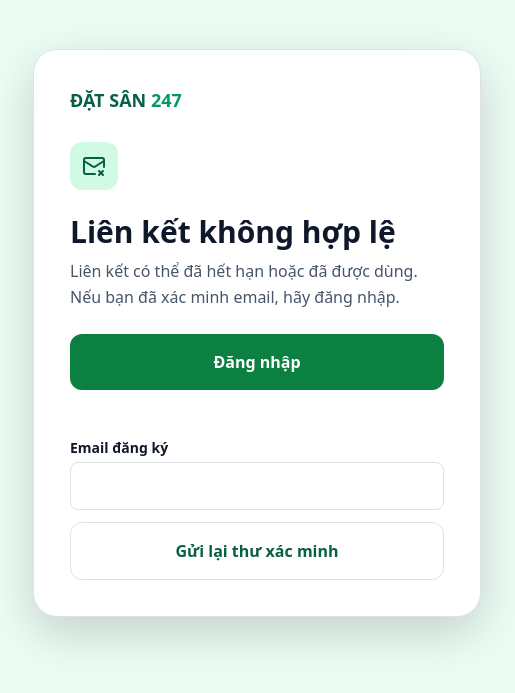
Test case: email verification page › requests a new link from the invalid link page
Type "CUSTOMER@example.test" into the field labelled "Email đăng ký" at (257, 486), box [70,462,444,510]
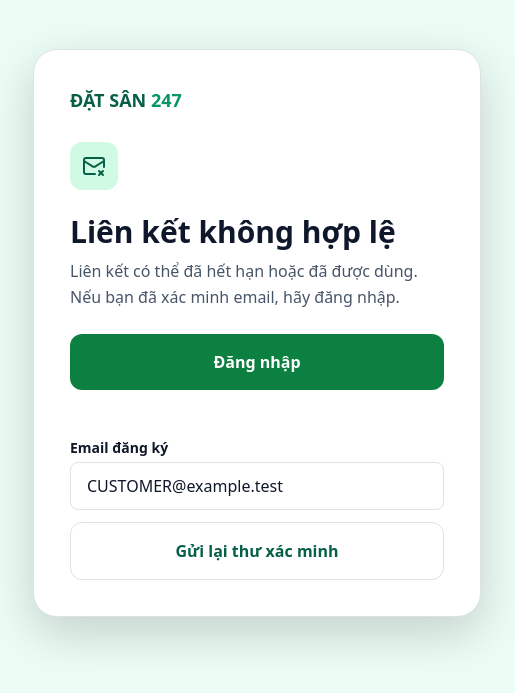
Click the button "Gửi lại thư xác minh" at (257, 551), box [70,522,444,580]
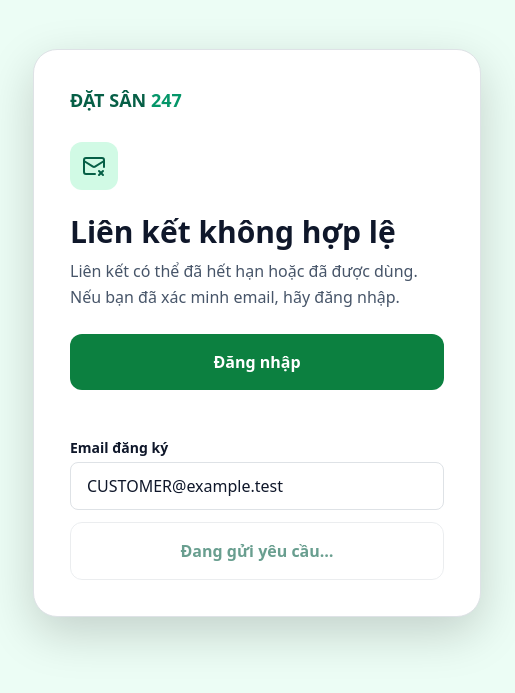
Click the button named "Gửi lại thư xác minh" at (257, 551), box [70,522,444,580]
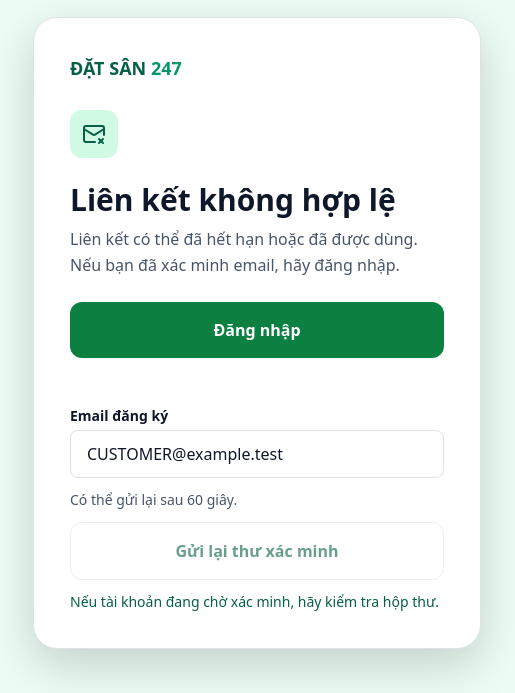
Now the button "Gửi lại thư xác minh" is disabled, box [70,522,444,580]
Now the message shows "Nếu tài khoản đang chờ xác minh", box [70,592,439,611]
Replace the text in the field labelled "Email đăng ký" with "another@example.test" at (257, 454), box [70,430,444,478]
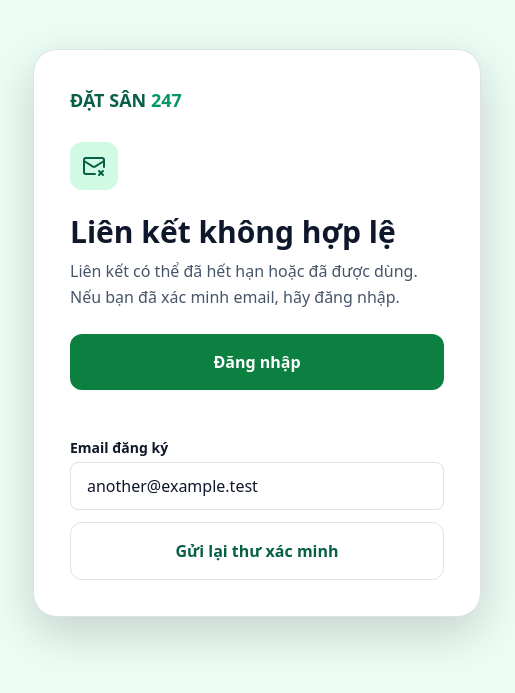
Now the button "Gửi lại thư xác minh" is enabled, box [70,522,444,580]
Replace the text in the field labelled "Email đăng ký" with "customer@example.test" at (257, 486), box [70,462,444,510]
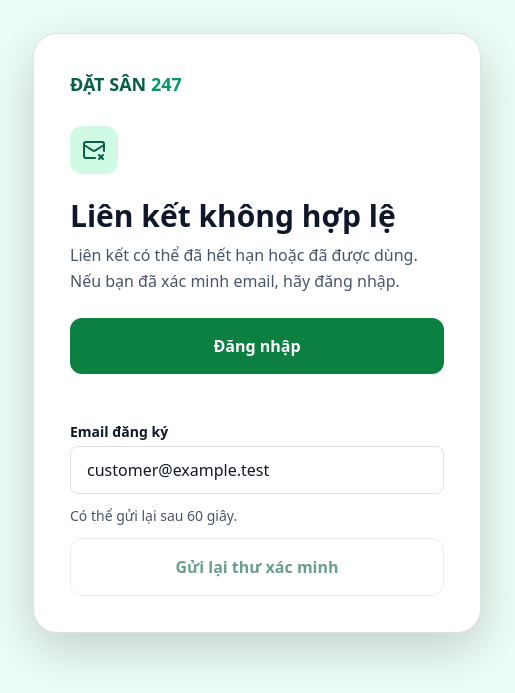
Now the button "Gửi lại thư xác minh" is disabled, box [70,538,444,596]
